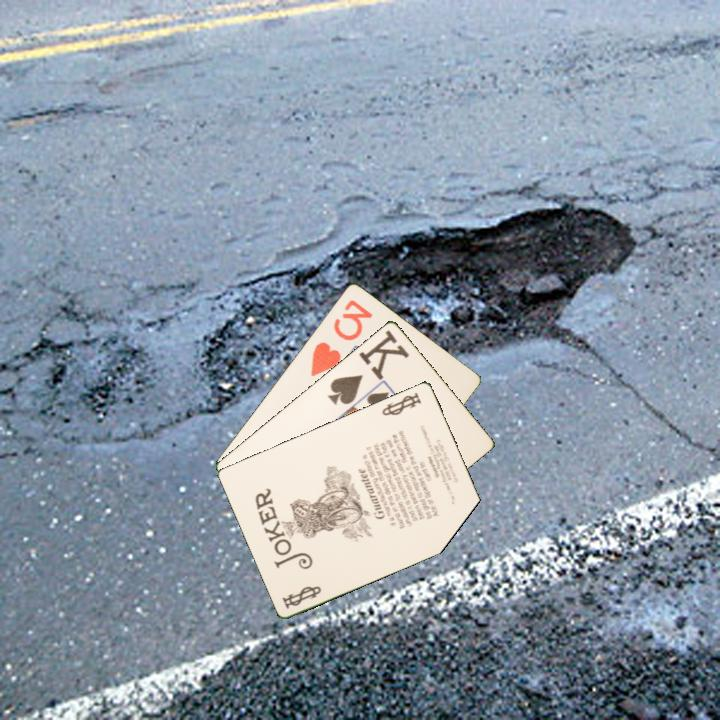3h: (307, 295, 376, 379)
JK: (279, 582, 324, 612), (378, 389, 424, 418)
Ks: (323, 326, 412, 408)
